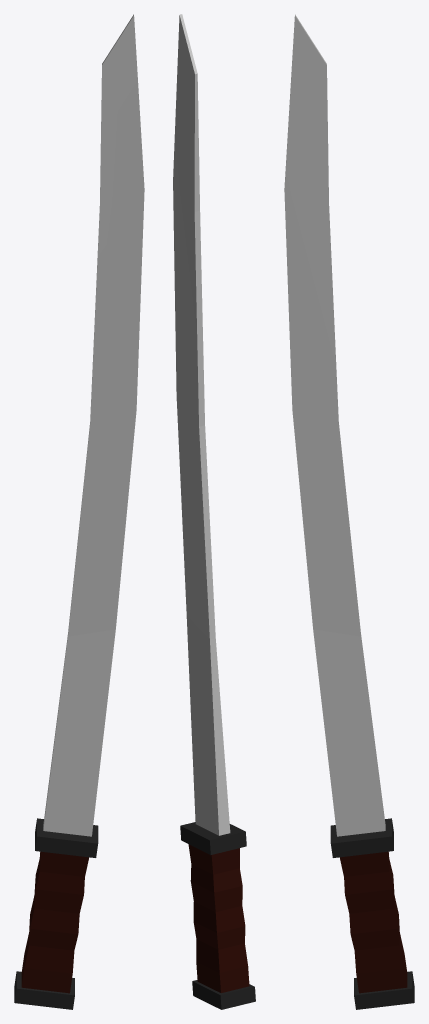
The model's file is katana.obj.
3 views of the same model, side by side, from view 1: azimuth 90°, elevation 25°; view 2: azimuth 210°, elevation 25°; view 3: azimuth 270°, elevation 25° (orthographic). The views are drawn at different scales.
Visible parts, largest first — view 1: Katana_Cube.005; view 2: Katana_Cube.005; view 3: Katana_Cube.005.
Part boxes in pixels (x1,y1,x2,y2): Katana_Cube.005: [14, 14, 144, 1009]; Katana_Cube.005: [173, 14, 255, 1009]; Katana_Cube.005: [284, 14, 414, 1009].
Size of the model in its own units: 0.1181 by 2.99 by 0.3576.
